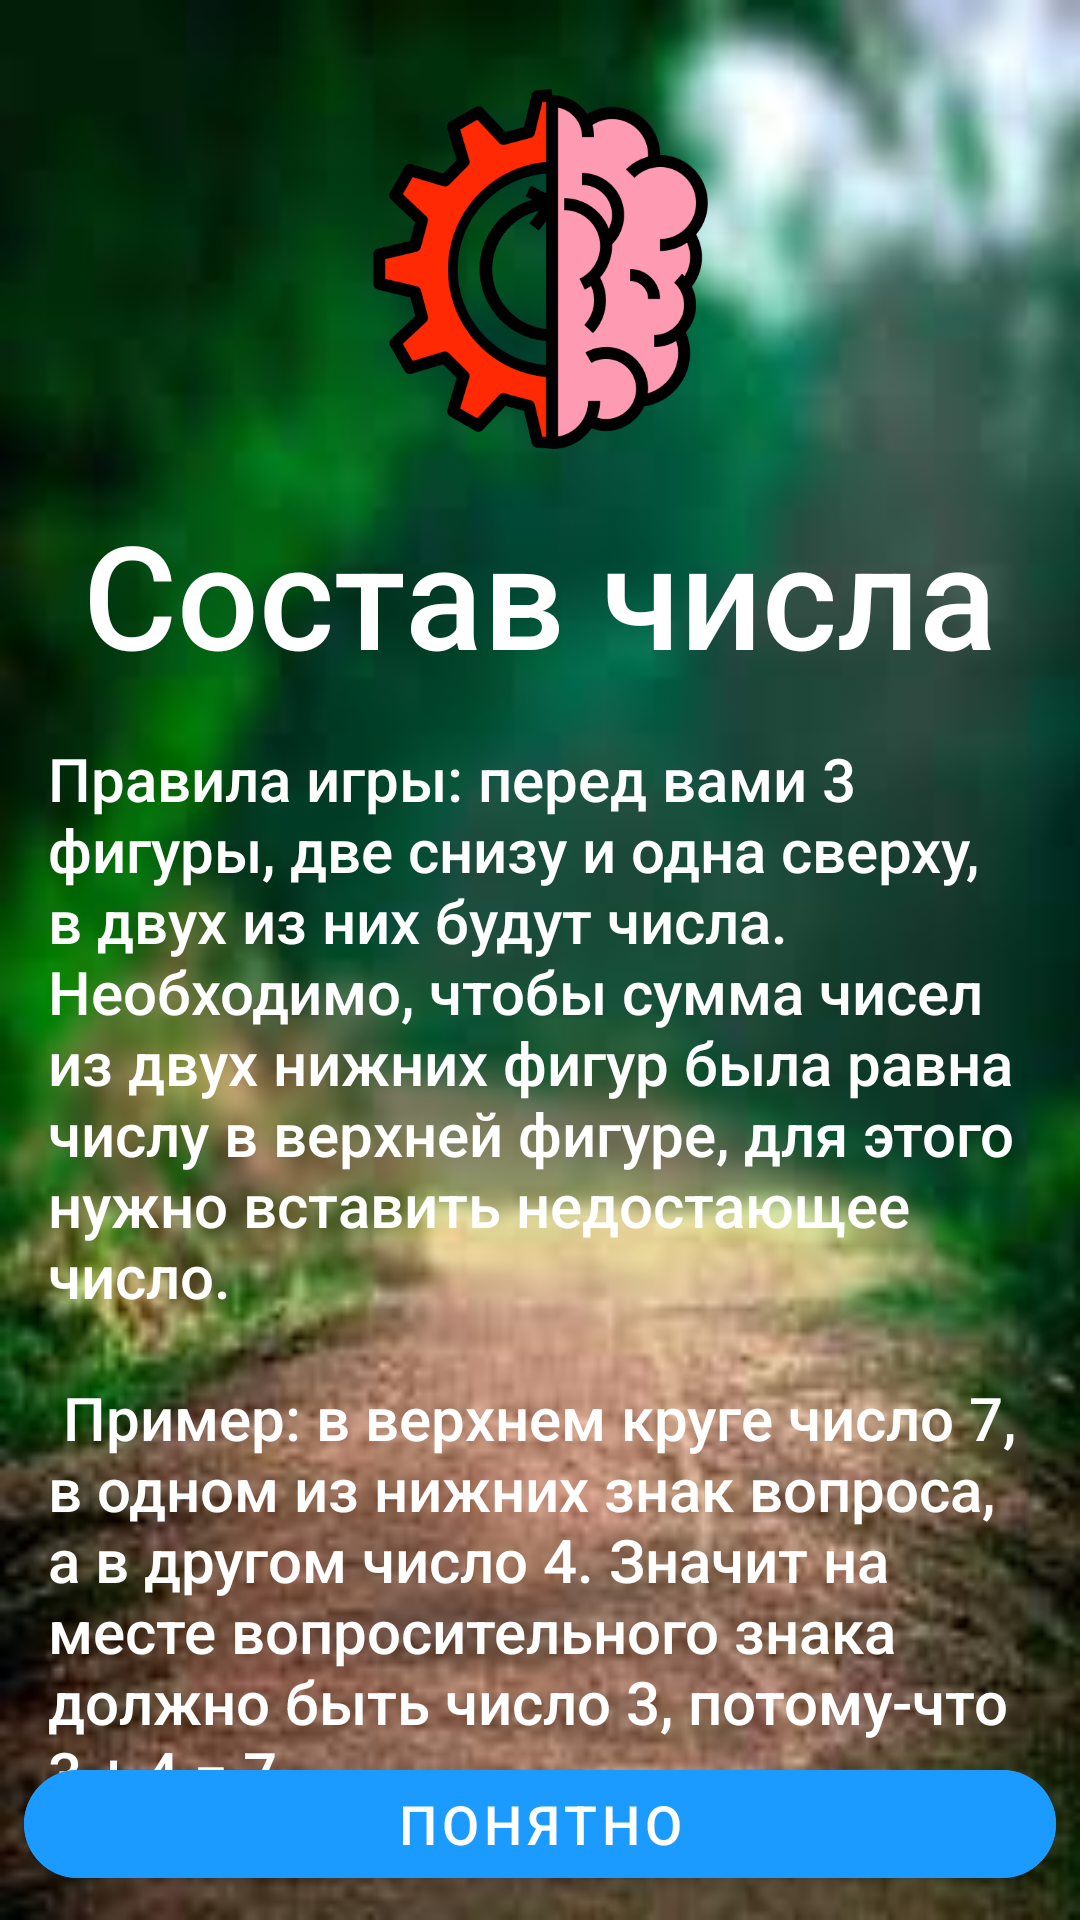

Point at icon controls on the screen. Image size 1080px×1920px, points as point (x, y).
brain: point (540, 269)
